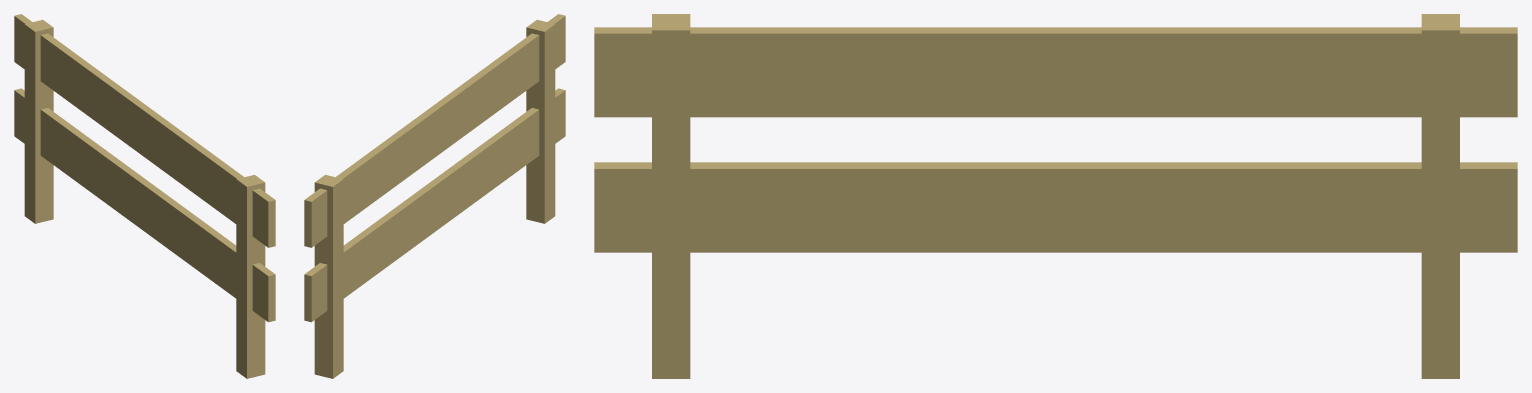
The model's file is saku.obj.
The picture shows the model from 3 angles, left to right: view 1: azimuth 30°, elevation 25°; view 2: azimuth 150°, elevation 25°; view 3: azimuth 270°, elevation 25°; orthographic projection. The views are drawn at different scales.
Parts seen in each view (by area): view 1: Cube; view 2: Cube; view 3: Cube.
Boxes of the visible parts, x1,y1,x2,y2 form: Cube: (14,14,275,378); Cube: (304,14,565,378); Cube: (594,14,1517,378).
Size of the model in its own units: 1 by 10 by 24.
1 material, 1 textured.
